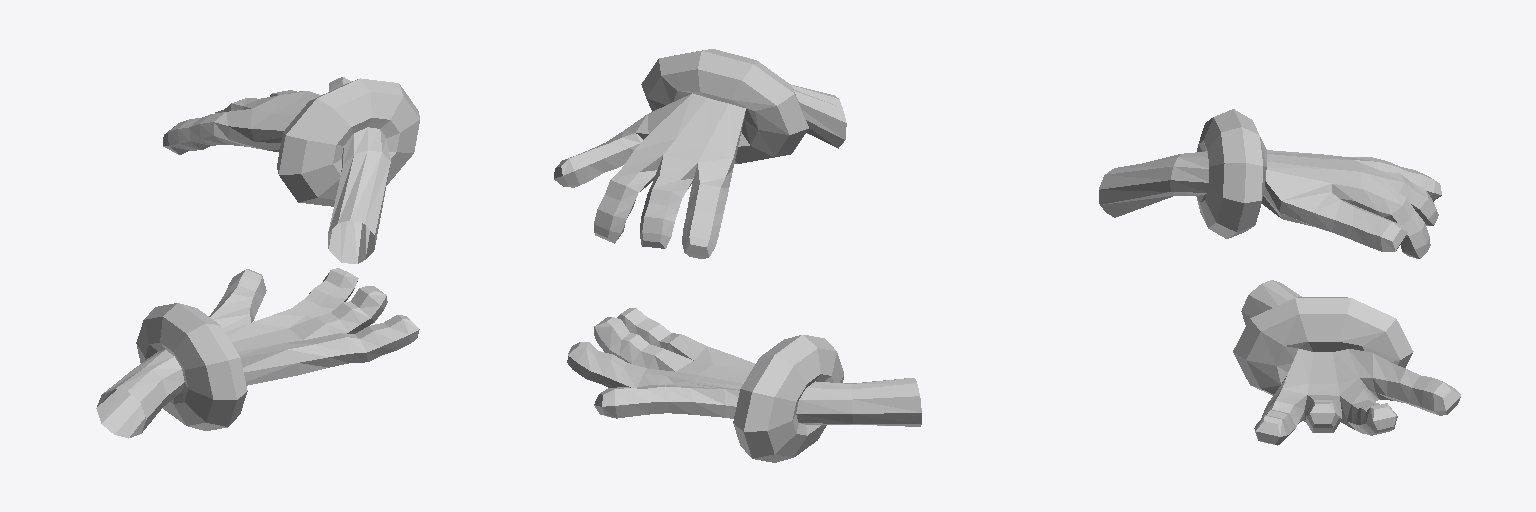
Rendered from MM Hands.obj.
3 views of the same model, side by side, from view 1: azimuth 30°, elevation 25°; view 2: azimuth 150°, elevation 25°; view 3: azimuth 270°, elevation 25° (orthographic).
Visible parts, largest first — view 1: polySurface2; view 2: polySurface2; view 3: polySurface2.
Boxes of the visible parts, <box> form: polySurface2: <box>96,77,419,438</box>; polySurface2: <box>554,49,921,462</box>; polySurface2: <box>1099,109,1460,445</box>.
Bounding box in the file's own units: 19.65 × 20.42 × 19.69.